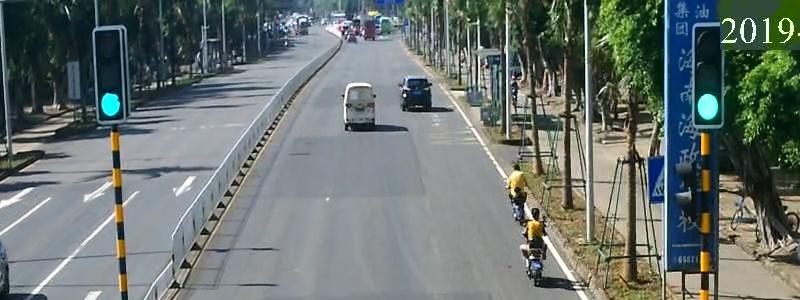green: (692, 86, 738, 137), (86, 93, 137, 122)
